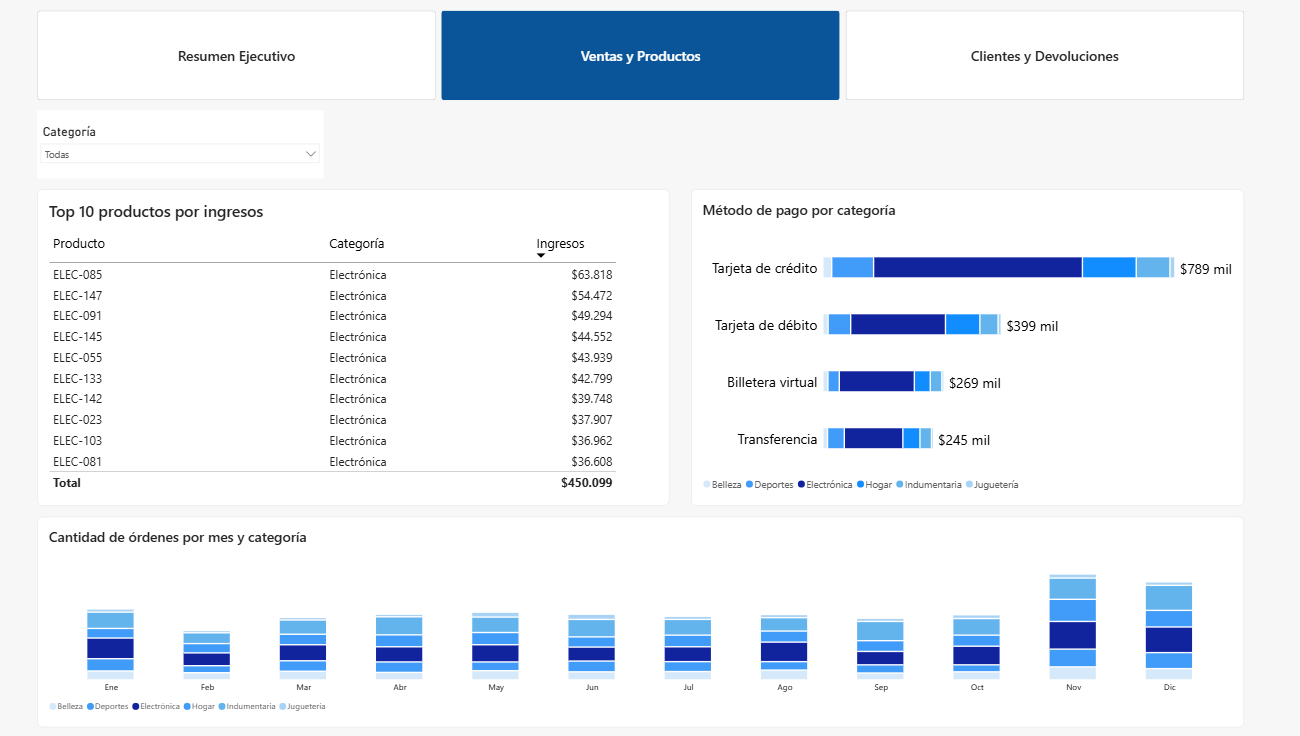

What the dashboard file says about the page in this screenshot:
{"tool":"powerbi","page":{"name":"Ventas y Productos","canvas":[1920,1080],"ordinal":1},"visuals":[{"type":"slicer","fields":{"Values":["products.category"]},"box":[60.6,171,414,98],"z":0},{"type":"tableEx","title":"Top 10 productos por ingresos","fields":{"Values":["products.product_name","products.category","orders.Ingresos Totales"]},"box":[60.6,283.5,915.4,458.8],"z":1000},{"type":"barChart","title":"Método de pago por categoría","fields":{"Category":["orders.payment_method"],"Series":["products.category"],"Y":["orders.Ingresos Totales"]},"box":[1006.3,283.5,800.7,458.8],"z":2000},{"type":"columnChart","title":"Cantidad de órdenes por mes y categoría","fields":{"Category":["Calendario.Mes"],"Series":["products.category"],"Y":["orders.Ordenes Completadas"]},"box":[60.6,757.4,1747.5,305],"z":3000},{"type":"pageNavigator","box":[60.6,26,1747.5,130],"z":4000}]}

Visuals, with their boxes in screenshot pixels (x1, y1, x2, y2), scaled from the page's 1920x1080 canvas onto the 1300x736 screenshot:
slicer - products.category: crop(41, 117, 321, 183)
"Top 10 productos por ingresos" tableEx: crop(41, 193, 661, 506)
"Método de pago por categoría" barChart: crop(681, 193, 1223, 506)
"Cantidad de órdenes por mes y categoría" columnChart: crop(41, 516, 1224, 724)
pageNavigator: crop(41, 18, 1224, 106)
